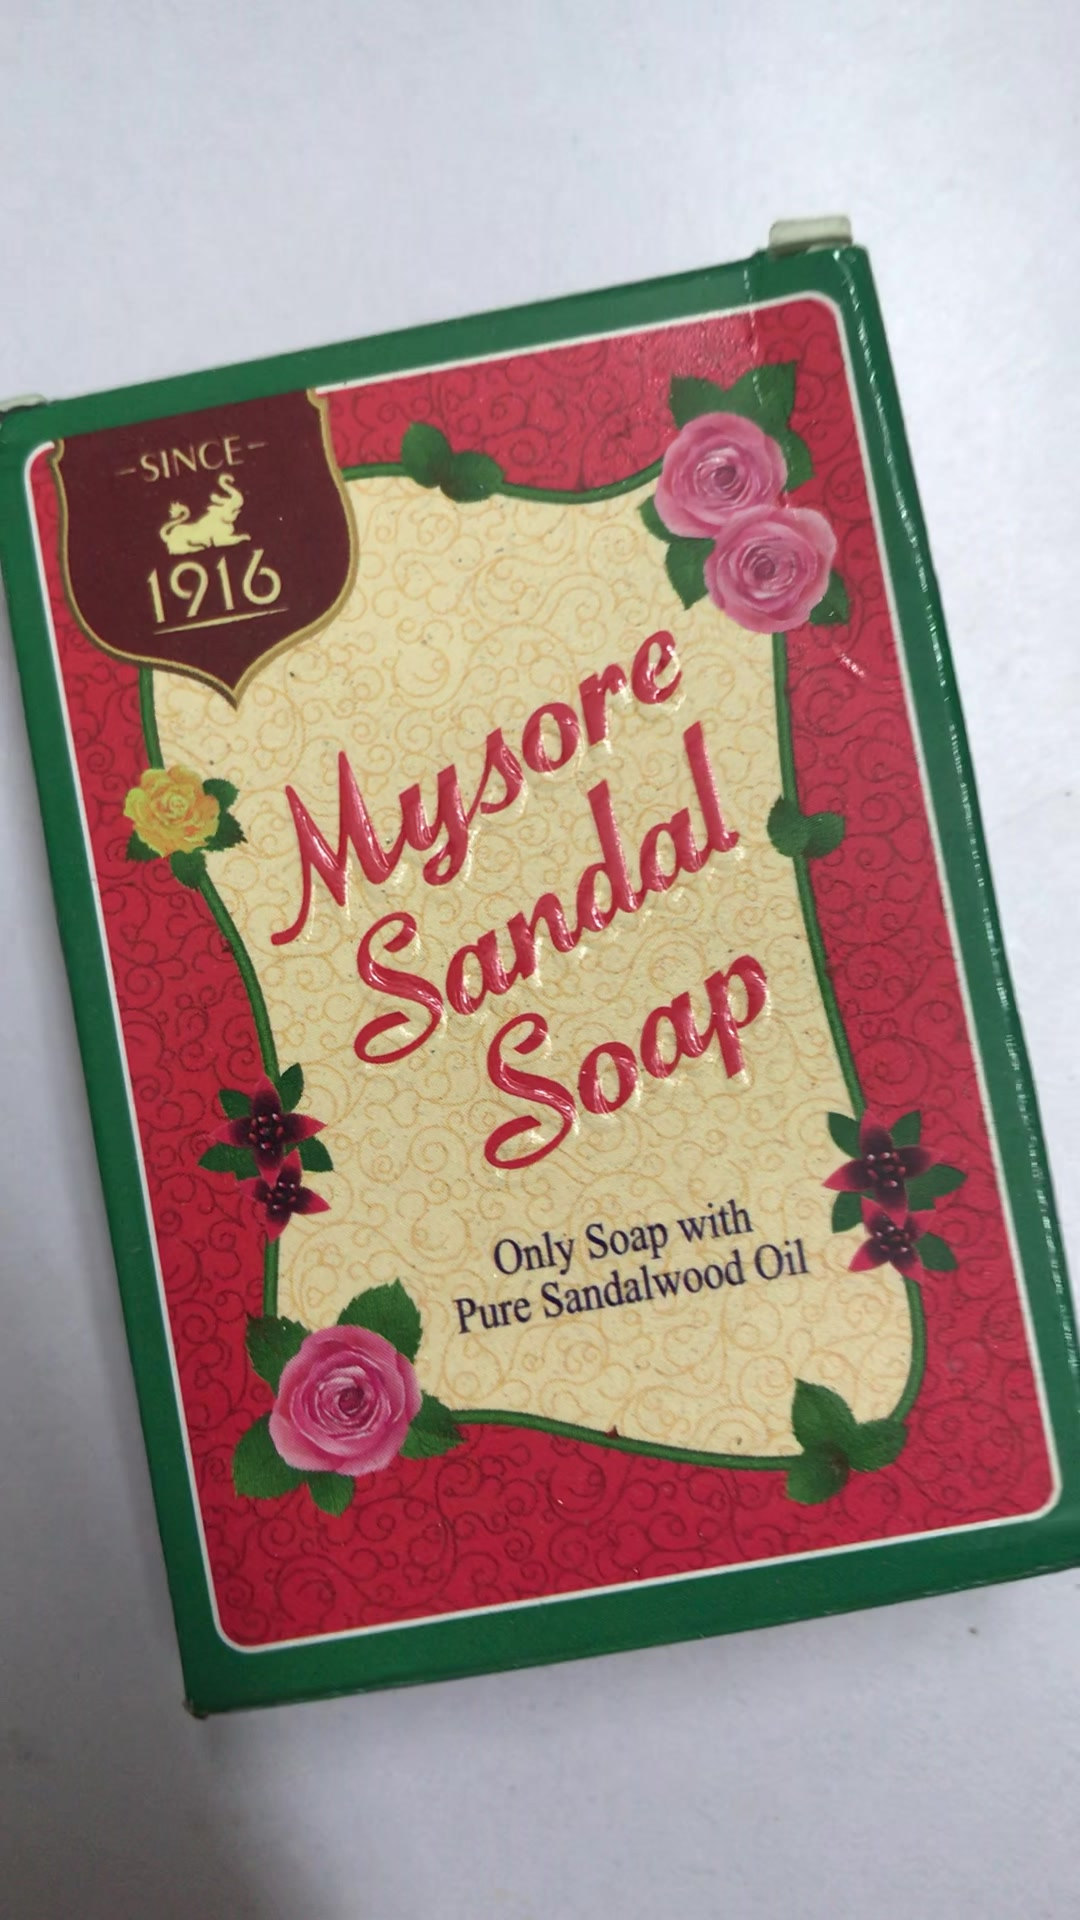mysore sandal soap: (5, 256, 1080, 1718)
